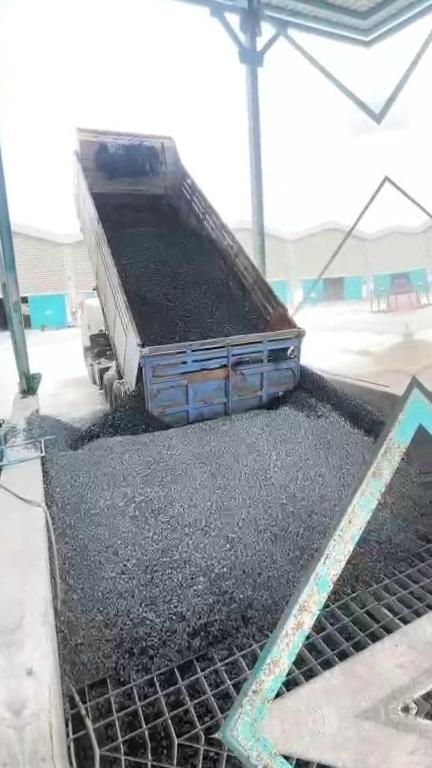gravel: (25, 364, 390, 671), (107, 213, 261, 338), (340, 425, 432, 578)
sand: (335, 332, 413, 384)
